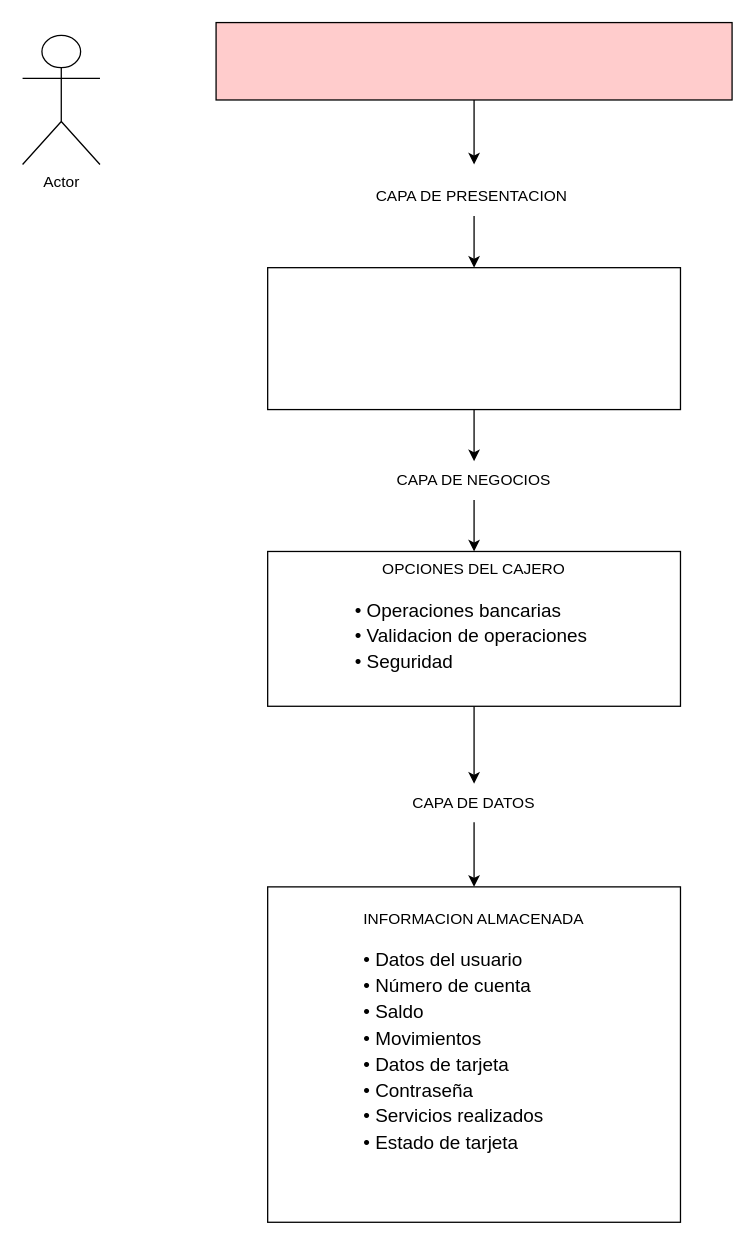
The diagram is 755 pixels wide and 1245 high, and some of its shapes have lost their labels. The centre of each missing label's shape, as x and y in pixels:
INTERFAZ DEL USUARIO MENU PRINCIPAL IMGRESO DE OPCIONES MOSTRAR MENSAJES: pixel 473 338
SISTEMA CAJERO AUTOMATICO: pixel 473 60
